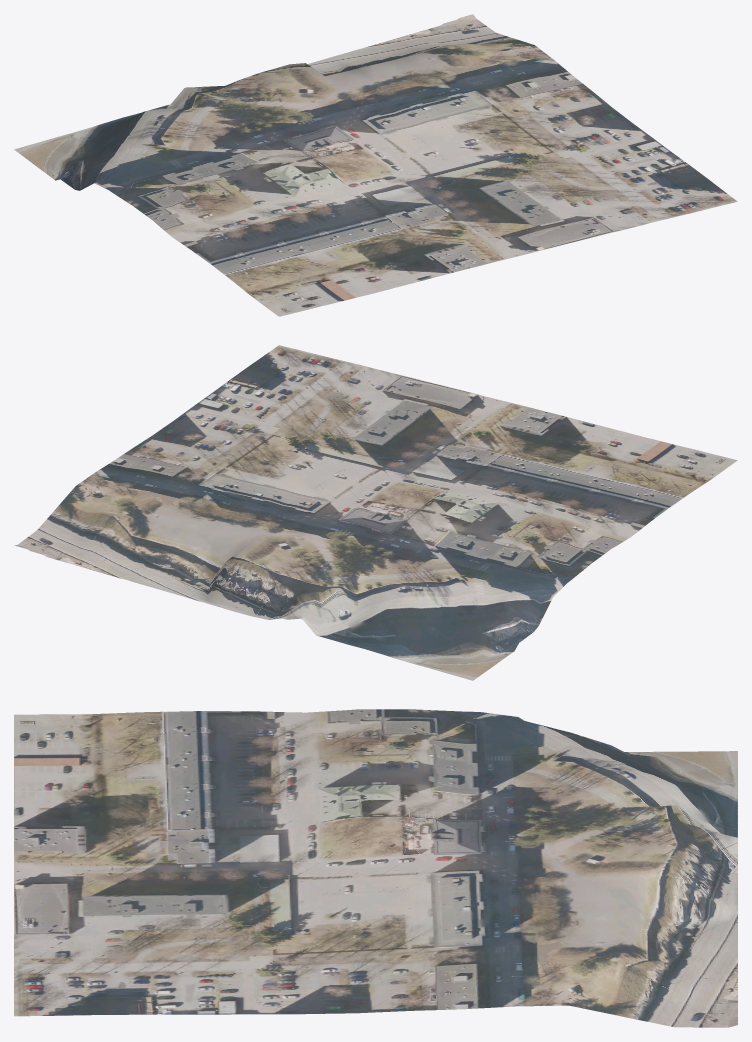
File: CM_Terrain_24488001_6821841.fbx
3 renders of one model, top to bottom at view 1: azimuth 30°, elevation 25°; view 2: azimuth 150°, elevation 25°; view 3: azimuth 270°, elevation 25°, orthographic. The views are drawn at different scales.
Parts seen in each view (by area): view 1: CM_Terrain_24488001_6821841_LOD0; view 2: CM_Terrain_24488001_6821841_LOD0; view 3: CM_Terrain_24488001_6821841_LOD0.
Boxes of the visible parts, x1,y1,x2,y2 form: CM_Terrain_24488001_6821841_LOD0: (14, 14, 737, 316); CM_Terrain_24488001_6821841_LOD0: (14, 345, 737, 680); CM_Terrain_24488001_6821841_LOD0: (14, 709, 737, 1027).
Size of what is drawn, in the model's own units: 205 by 17.38 by 205.
